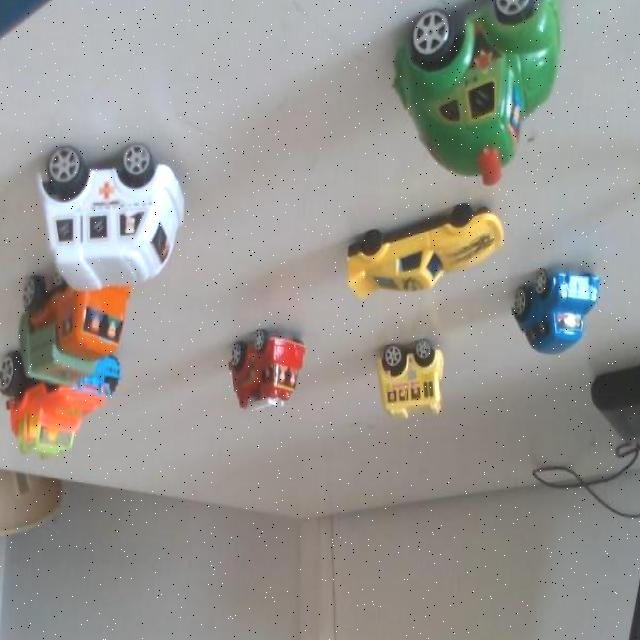car: (52, 116, 214, 316), (429, 5, 566, 168), (363, 191, 492, 310), (14, 353, 106, 471), (50, 265, 126, 398), (226, 309, 307, 427), (370, 322, 460, 424), (526, 258, 604, 359)
